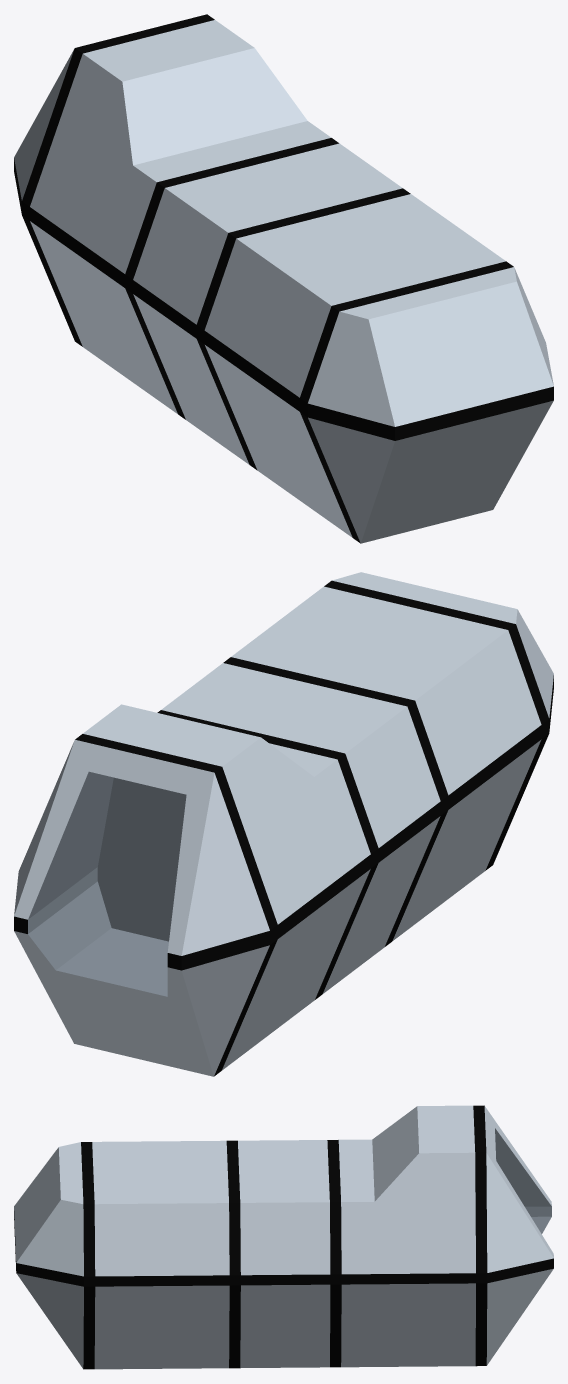
Rendered from taihou.FBX.
3 views of the same model, one above another, from view 1: azimuth 30°, elevation 25°; view 2: azimuth 150°, elevation 25°; view 3: azimuth 270°, elevation 25° (orthographic). The views are drawn at different scales.
Parts seen in each view (by area): view 1: VIFS002, VIFS001; view 2: VIFS002, VIFS003, VIFS001; view 3: VIFS002, VIFS001, VIFS003.
Part boxes in pixels (box(x1,y1,x2,y2)): VIFS002: box(14, 20, 553, 543); VIFS001: box(14, 14, 553, 543); VIFS002: box(14, 572, 553, 1076); VIFS003: box(28, 771, 186, 996); VIFS001: box(14, 580, 553, 1076); VIFS002: box(14, 1105, 553, 1369); VIFS001: box(14, 1105, 553, 1369); VIFS003: box(495, 1128, 551, 1233).
Size of the model in its own units: 0.2514 by 0.2848 by 0.6514.
